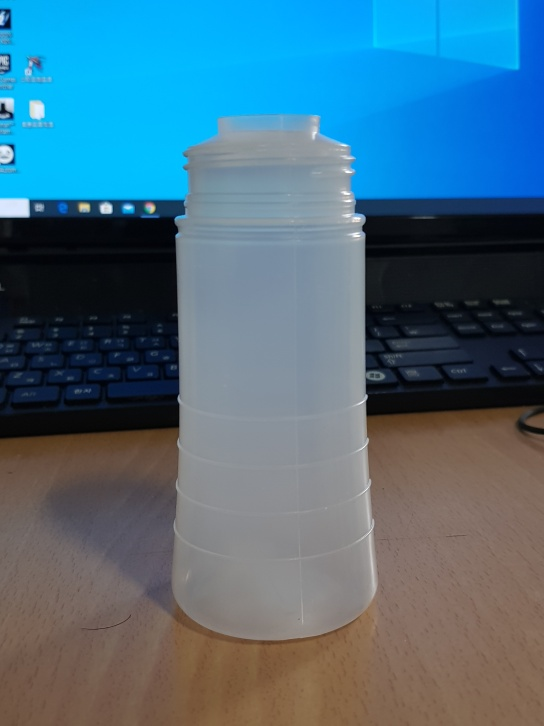Plastic: (168, 111, 381, 645)
